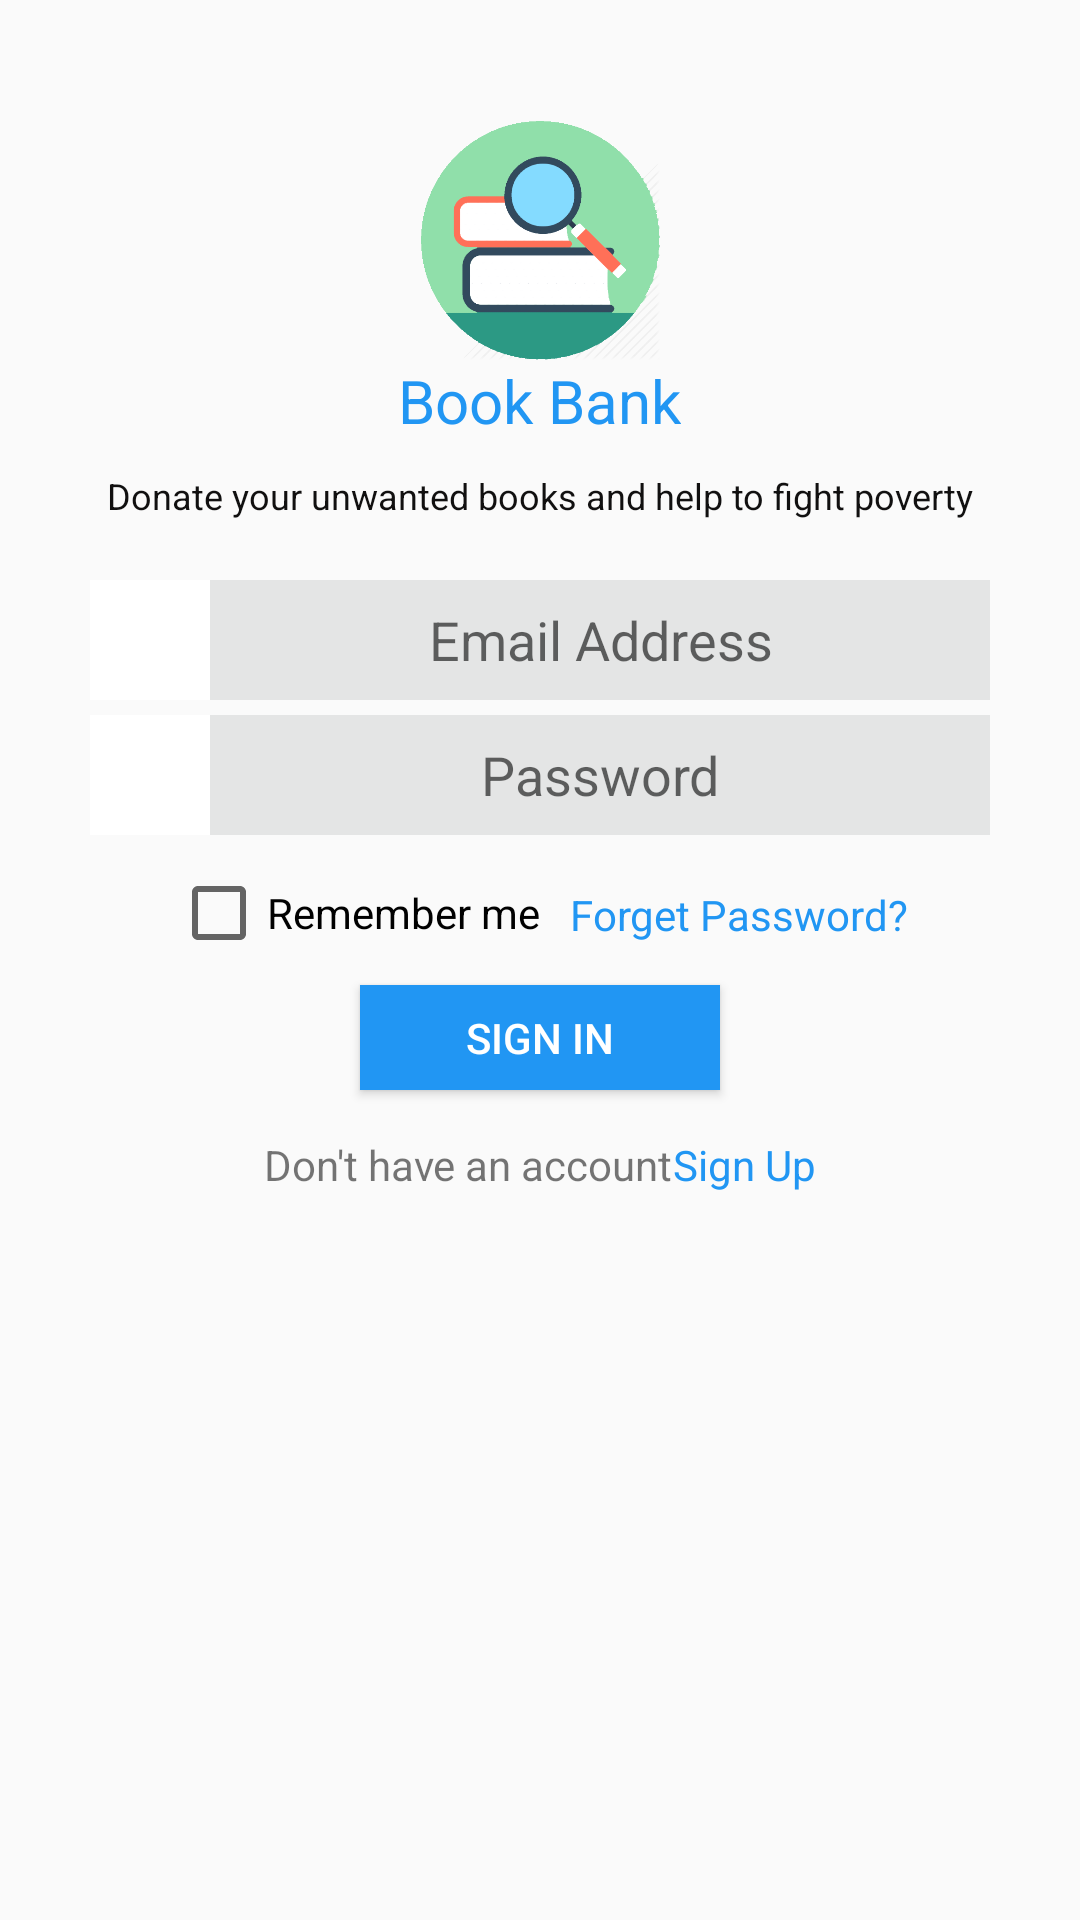

Where icons sit on this 1080px×1920px app screen, as (x1, y1, x2, y2):
app: (421, 121, 660, 360)
